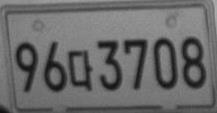0: (152, 37, 178, 89)
3: (97, 39, 122, 90)
6: (43, 40, 67, 92)
7: (123, 38, 148, 89)
8: (181, 35, 207, 89)
9: (15, 41, 38, 92)
다: (68, 49, 93, 91)
